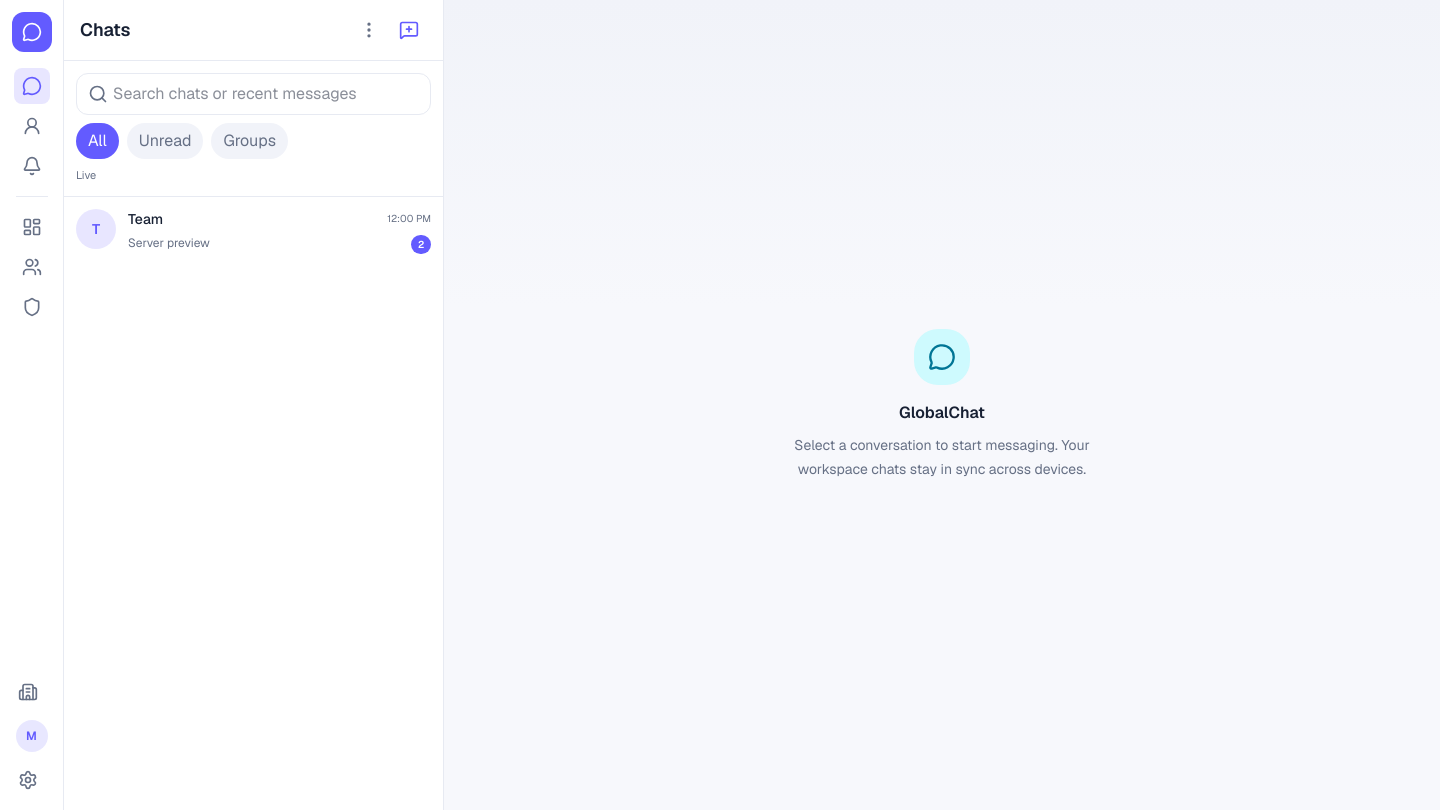
real chat UI renders server summaries, sends read receipts and displays typing
Expected: the text "Server preview" is shown, [128,234,210,250]
Expected: the element named "2 unread messages" is shown, [411,230,431,254]
Step 1. Click the button "T Team 12:00 PM Server preview 2" → (96, 228), box [64,196,443,266]
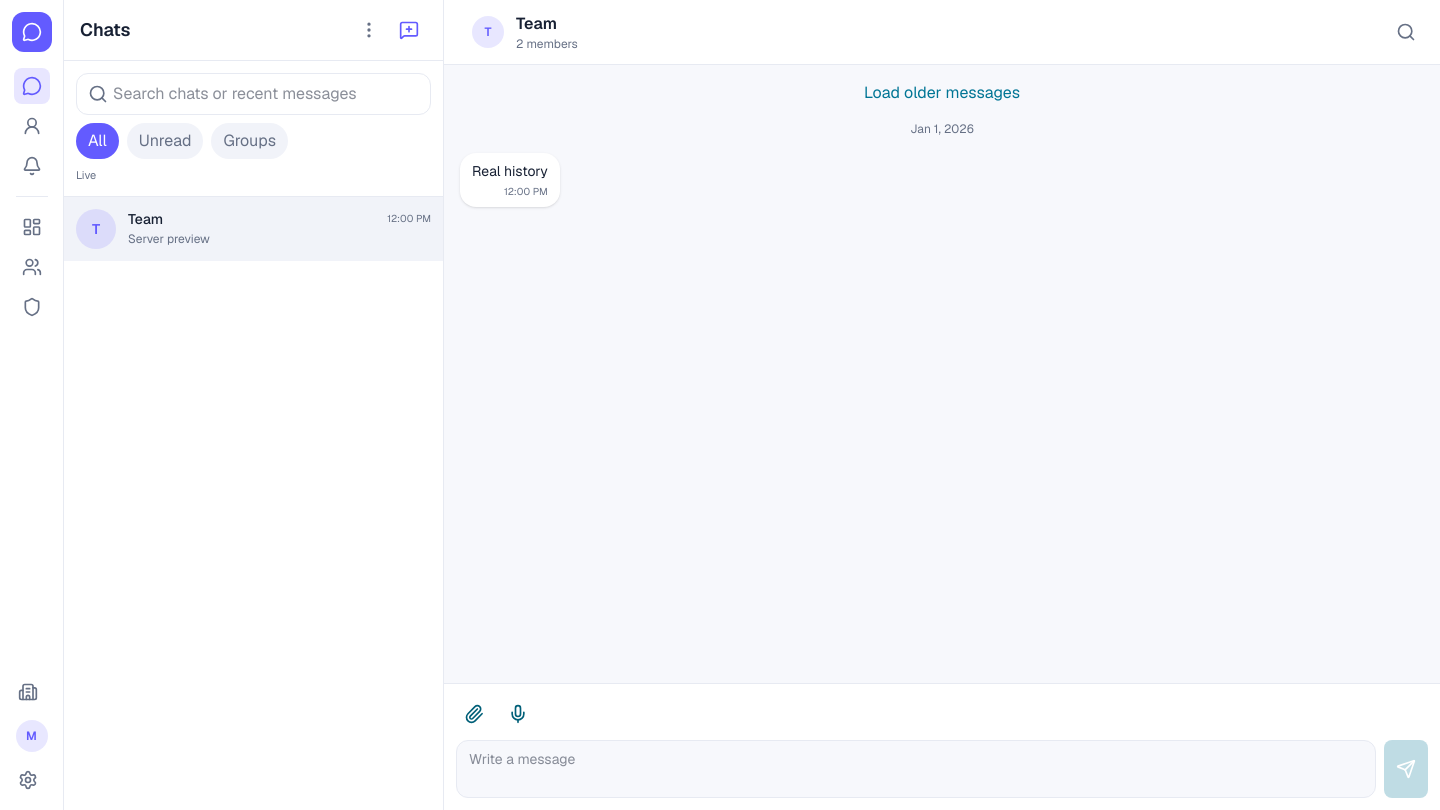
Result: the text "Real history" is shown at [472,161,548,181]
Step 2. Click the button named "Search messages" → (1406, 32), box [1388,14,1424,50]
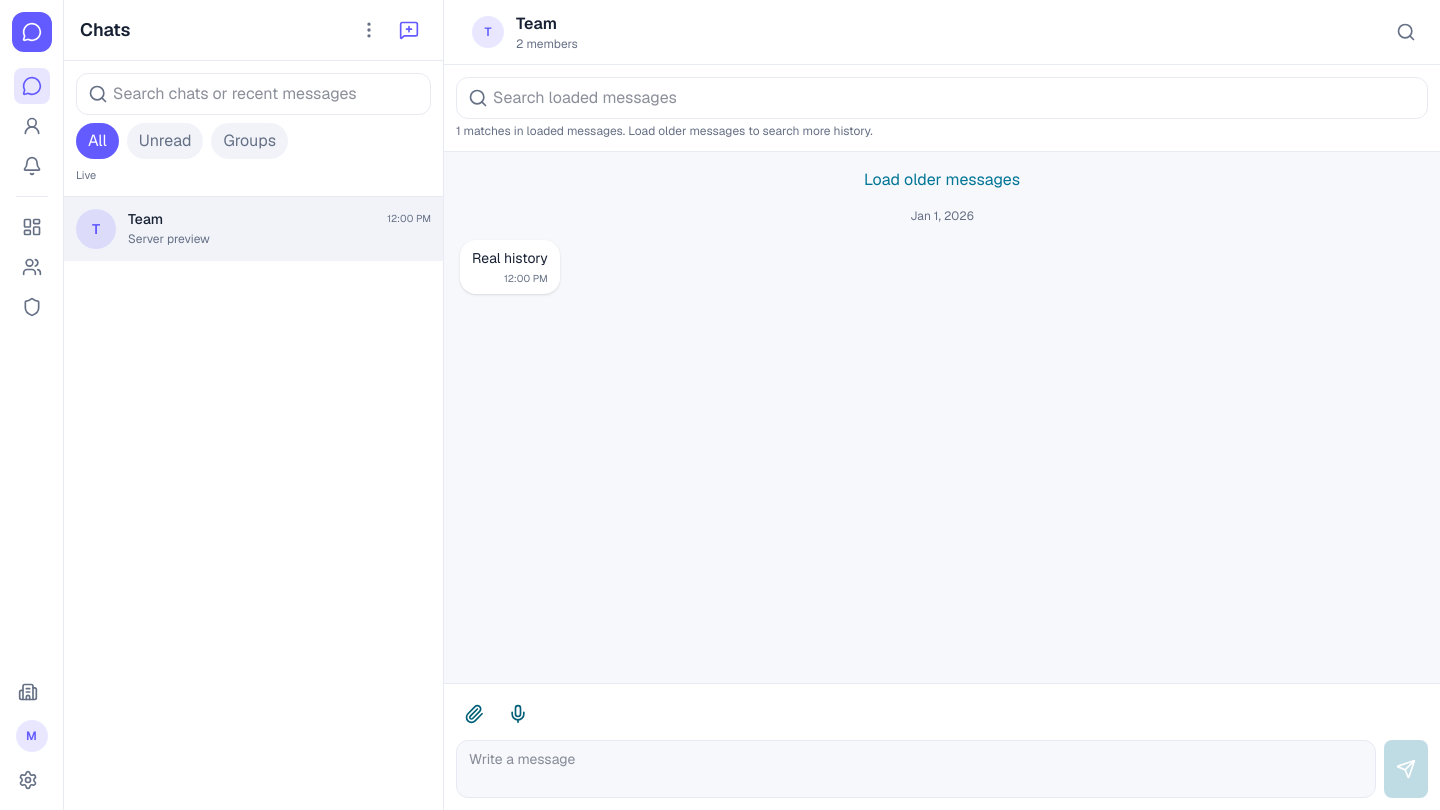
Step 3. Type "no match" into the search field labelled "Search loaded messages" → (942, 98), box [456,77,1428,119]
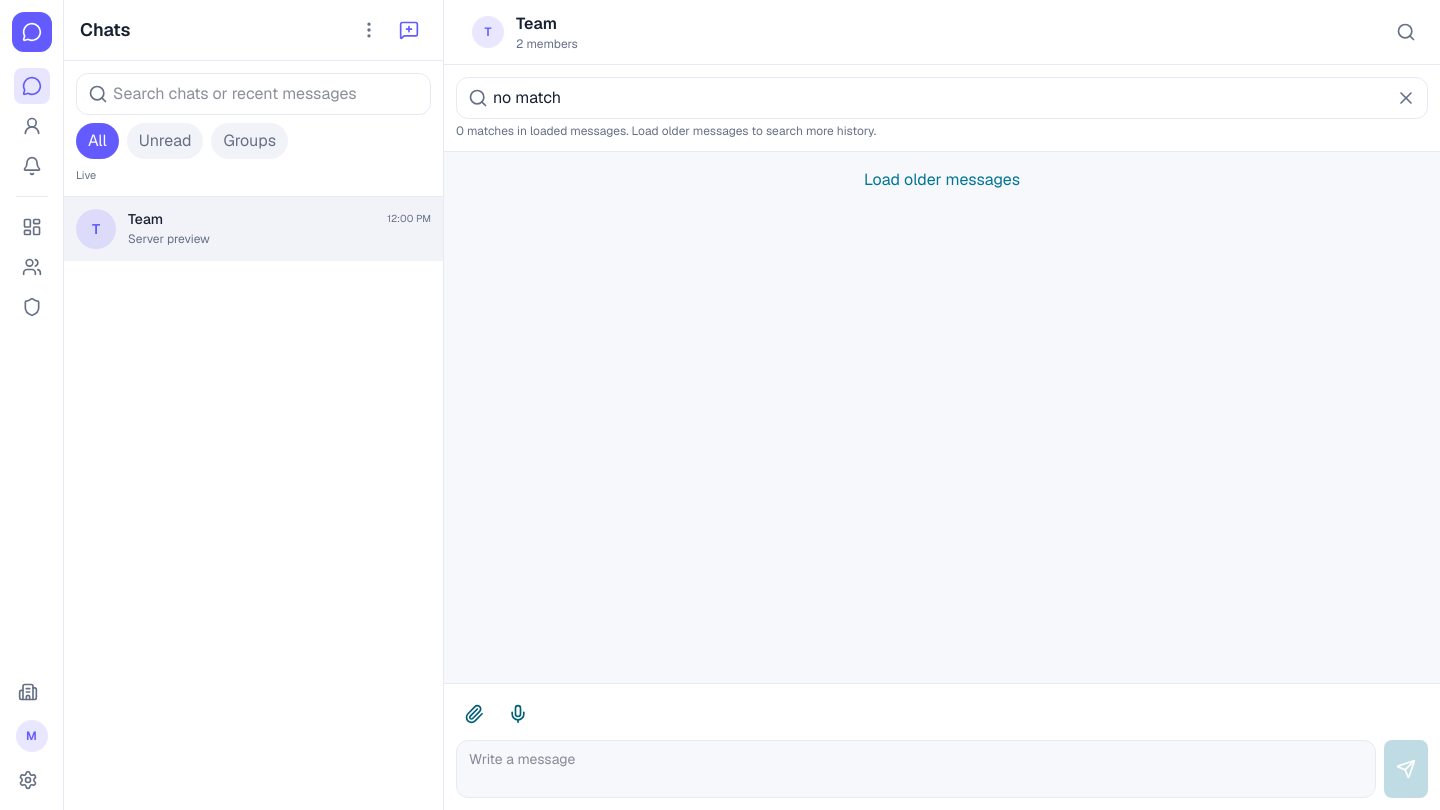
Result: the text "Real history" is gone
Step 4. Press Escape in the search field named "Search loaded messages", box [456,77,1428,119]
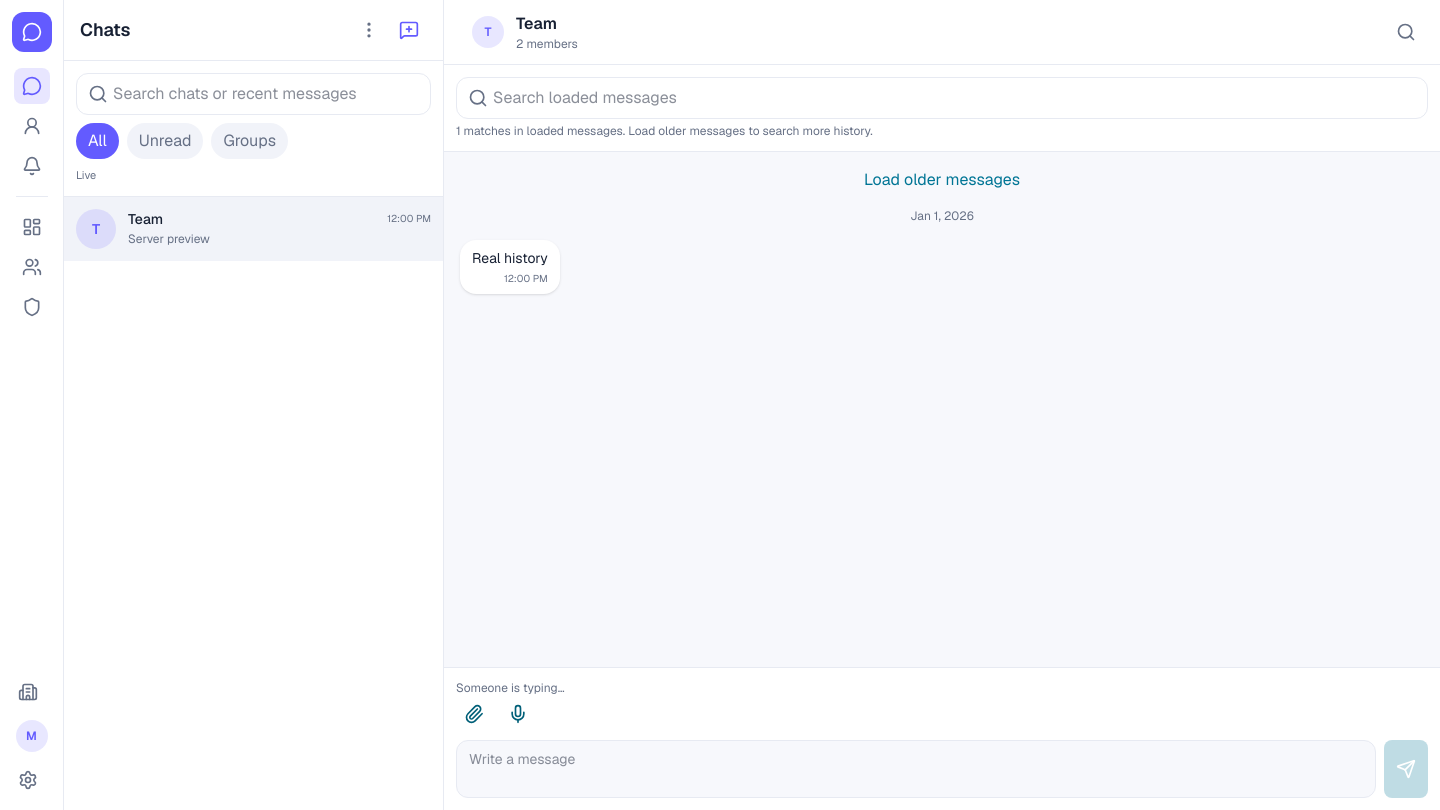
Result: the text "Real history" is shown at [472,248,548,268]
Result: the text "Someone is typing…" is shown at [456,680,564,696]
Step 5. Type "Hello" into the text box with placeholder "Write a message" → (916, 769), box [456,740,1376,798]
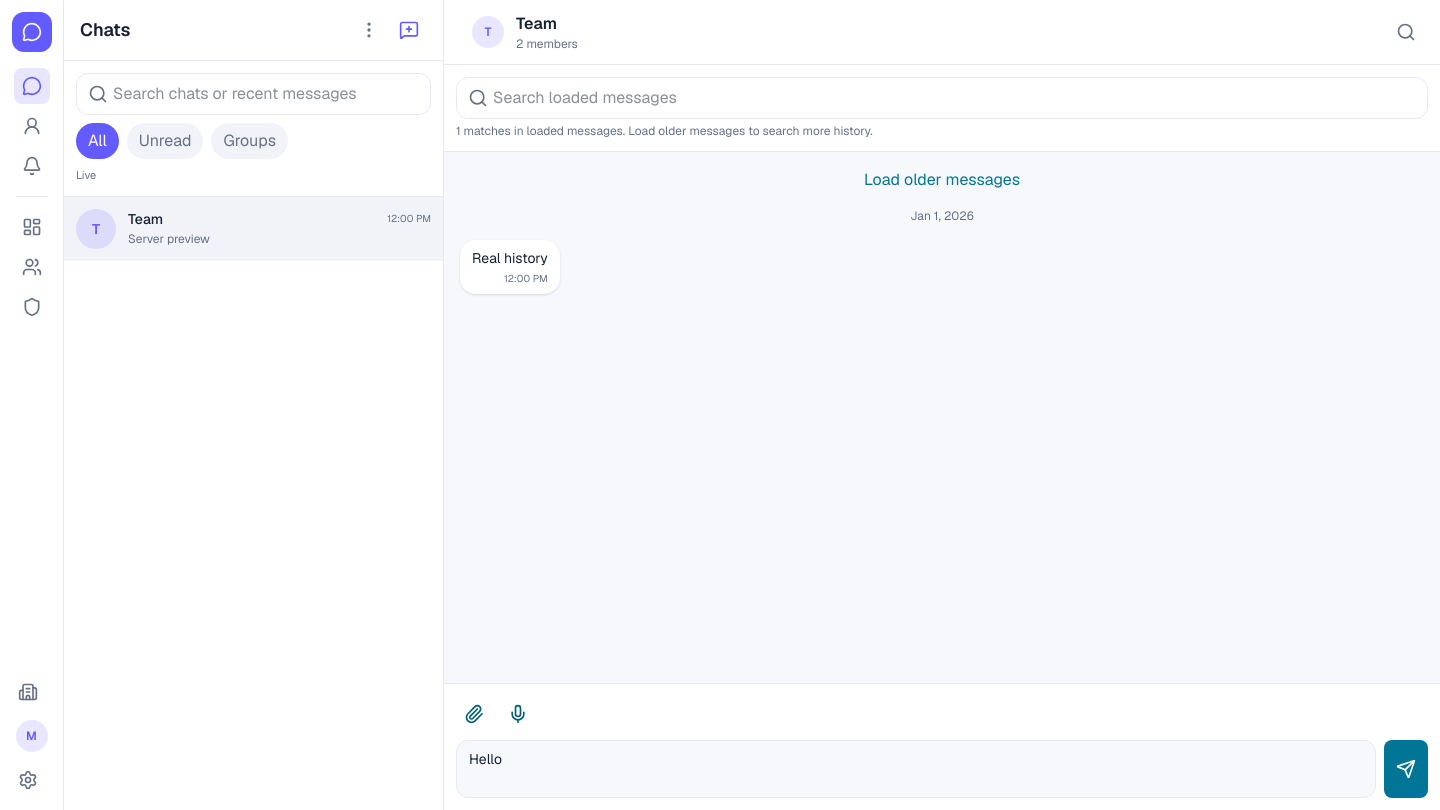
Result: the text "Someone is typing…" is gone
